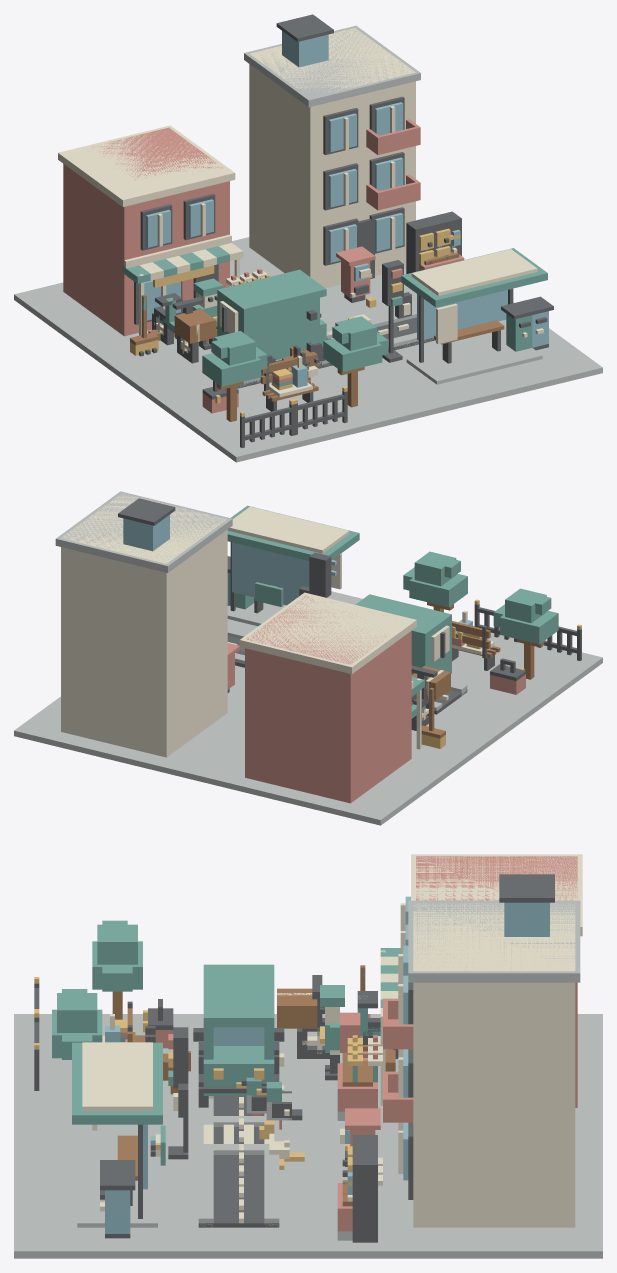
File: pocket-borough-starter-scene__300.glb
3 renders of one model, top to bottom at view 1: azimuth 30°, elevation 25°; view 2: azimuth 150°, elevation 25°; view 3: azimuth 270°, elevation 25°, orthographic. The views are drawn at different scales.
Parts seen in each view (by area): view 1: terrain-base, 02-pocket-borough-apartment-block/0, 01-pocket-borough-corner-bakery/0, 01-pocket-borough-corner-bakery/1, 10-pocket-borough-delivery-van/0, 02-pocket-borough-apartment-block/3, 02-pocket-borough-apartment-block/1, 02-pocket-borough-apartment-block/2, 09-pocket-borough-tram-stop/4, 09-pocket-borough-tram-stop/0, 13-pocket-borough-street-maple/1, 14-pocket-borough-street-maple/1 (+19 smaller); view 2: 02-pocket-borough-apartment-block/0, 01-pocket-borough-corner-bakery/0, terrain-base, 01-pocket-borough-corner-bakery/1, 02-pocket-borough-apartment-block/1, 09-pocket-borough-tram-stop/4, 09-pocket-borough-tram-stop/2, 10-pocket-borough-delivery-van/0, 13-pocket-borough-street-maple/1, 14-pocket-borough-street-maple/1, 09-pocket-borough-tram-stop/3, 02-pocket-borough-apartment-block/3 (+12 smaller); view 3: terrain-base, 02-pocket-borough-apartment-block/0, 10-pocket-borough-delivery-van/0, 01-pocket-borough-corner-bakery/1, 02-pocket-borough-apartment-block/1, 01-pocket-borough-corner-bakery/0, 09-pocket-borough-tram-stop/4, 13-pocket-borough-street-maple/1, 09-pocket-borough-tram-stop/0, 25-pocket-borough-parcel-locker/0, 14-pocket-borough-street-maple/1, 02-pocket-borough-apartment-block/3 (+26 smaller).
Boxes of the visible parts, x1,y1,x2,y2 form: terrain-base: (14, 237, 602, 462); 02-pocket-borough-apartment-block/0: (249, 28, 415, 287); 01-pocket-borough-corner-bakery/0: (63, 127, 229, 336); 01-pocket-borough-corner-bakery/1: (58, 125, 243, 335); 10-pocket-borough-delivery-van/0: (217, 269, 326, 359); 02-pocket-borough-apartment-block/3: (282, 31, 403, 262); 02-pocket-borough-apartment-block/1: (244, 25, 420, 107); 02-pocket-borough-apartment-block/2: (276, 14, 404, 278); 09-pocket-borough-tram-stop/4: (411, 249, 537, 344); 09-pocket-borough-tram-stop/0: (406, 335, 542, 384); 13-pocket-borough-street-maple/1: (202, 331, 267, 386); 14-pocket-borough-street-maple/1: (323, 316, 388, 371); 02-pocket-borough-apartment-block/0: (61, 494, 227, 757); 01-pocket-borough-corner-bakery/0: (245, 595, 411, 803); terrain-base: (14, 591, 602, 825); 01-pocket-borough-corner-bakery/1: (239, 592, 421, 749); 02-pocket-borough-apartment-block/1: (55, 491, 232, 572); 09-pocket-borough-tram-stop/4: (227, 506, 349, 589); 09-pocket-borough-tram-stop/2: (232, 542, 336, 605); 10-pocket-borough-delivery-van/0: (355, 594, 451, 674); 13-pocket-borough-street-maple/1: (493, 588, 558, 644); 14-pocket-borough-street-maple/1: (403, 551, 467, 607); 09-pocket-borough-tram-stop/3: (227, 505, 359, 560); 02-pocket-borough-apartment-block/3: (123, 515, 169, 551); terrain-base: (14, 1014, 602, 1258); 02-pocket-borough-apartment-block/0: (398, 903, 575, 1227); 10-pocket-borough-delivery-van/0: (203, 964, 274, 1095); 01-pocket-borough-corner-bakery/1: (380, 854, 582, 1105); 02-pocket-borough-apartment-block/1: (408, 900, 580, 982); 01-pocket-borough-corner-bakery/0: (416, 856, 577, 1107); 09-pocket-borough-tram-stop/4: (82, 1042, 152, 1130); 13-pocket-borough-street-maple/1: (92, 920, 142, 991); 09-pocket-borough-tram-stop/0: (77, 1155, 157, 1227); 25-pocket-borough-parcel-locker/0: (342, 1135, 377, 1242); 14-pocket-borough-street-maple/1: (52, 989, 102, 1059); 02-pocket-borough-apartment-block/3: (403, 902, 549, 1180).
Size of the model in its own units: 13.88 by 8.33 by 14.56.
